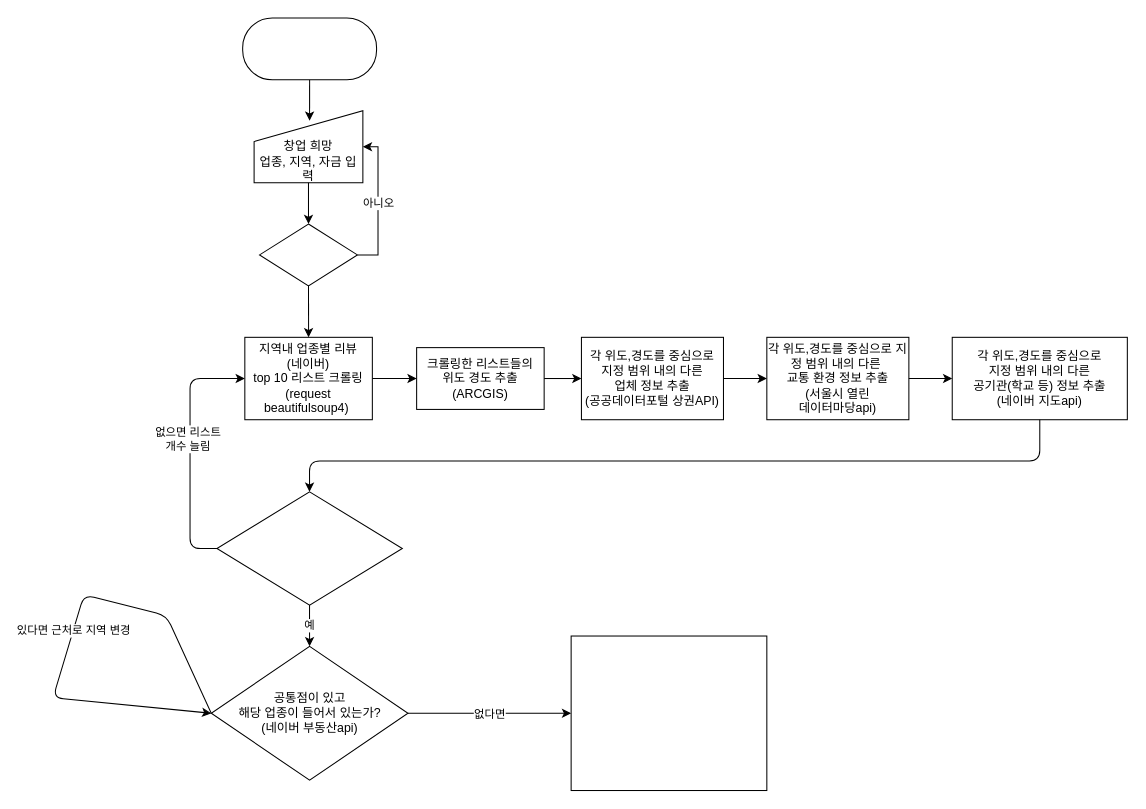
The diagram is 1146 pixels wide and 809 high, and some of its shapes have lost their labels. The shapes that lost their labels are listed below. From the top down, each one's box as (x1, y1, x2, y2) in pixels, then its label:
(242, 17, 377, 80): 시크릿 스페이스 프로그램 시작
(259, 223, 357, 286): 존재하는 업종인가?
(216, 491, 402, 605): 위의 정보를 바탕으로 top10 리스트의 공통점 도출할 수 있는가?
(570, 635, 767, 791): 이 지점에 창업 추천
